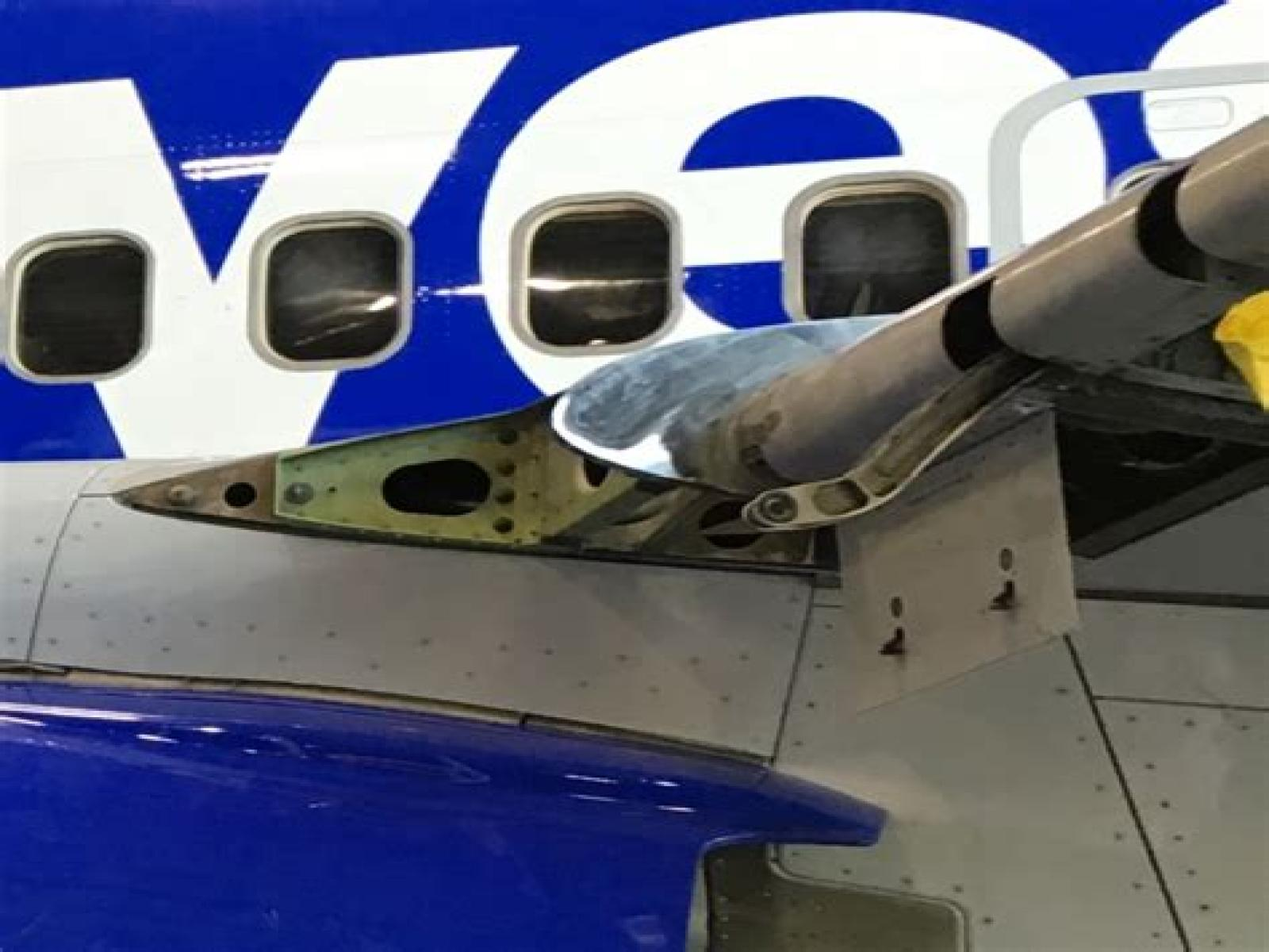Skin_Cover: (270, 398, 731, 554)
Wing_damage: (126, 398, 806, 566), (495, 491, 511, 502)
